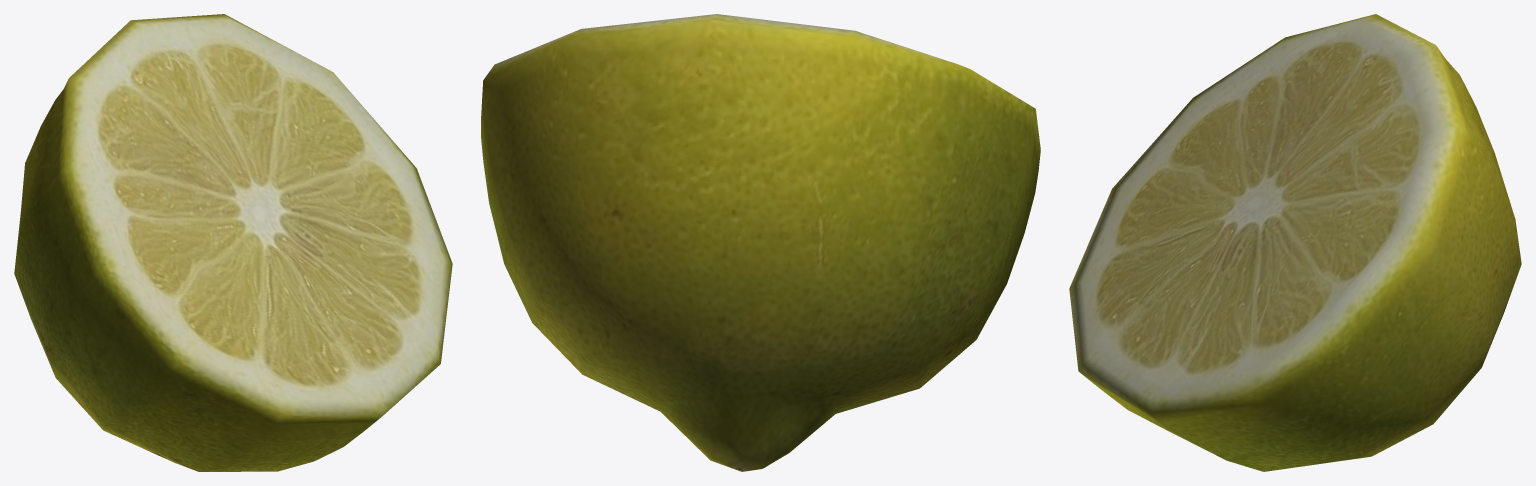
Rendered from A119_Lime_Half_low.fbx.
The picture shows the model from 3 angles, left to right: view 1: azimuth 30°, elevation 25°; view 2: azimuth 150°, elevation 25°; view 3: azimuth 270°, elevation 25°; orthographic projection. The views are drawn at different scales.
Parts seen in each view (by area): view 1: A119_Lime_Half_low; view 2: A119_Lime_Half_low; view 3: A119_Lime_Half_low.
Part boxes in pixels (x1,y1,x2,y2): A119_Lime_Half_low: (14, 14, 452, 471); A119_Lime_Half_low: (481, 14, 1040, 471); A119_Lime_Half_low: (1069, 14, 1521, 471).
Bounding box in the file's own units: 3.96 × 3.85 × 3.67.
Materials: 1 (1 with a texture image).
